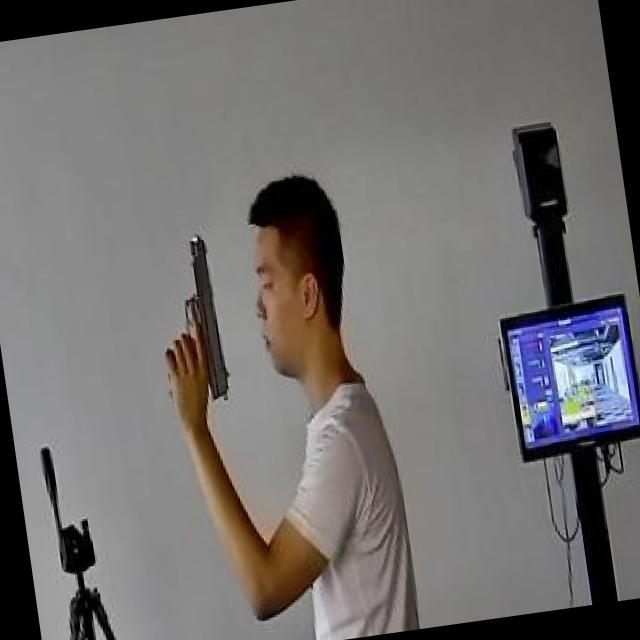Guns: (140, 218, 244, 426)
